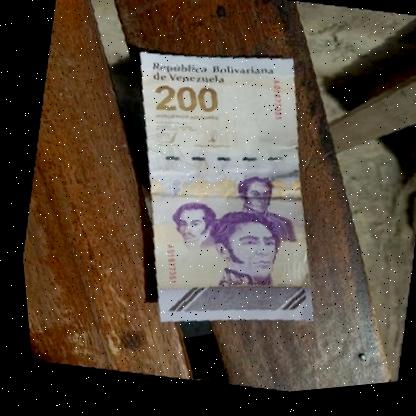two_hundred-front-vef: (100, 39, 343, 348)
